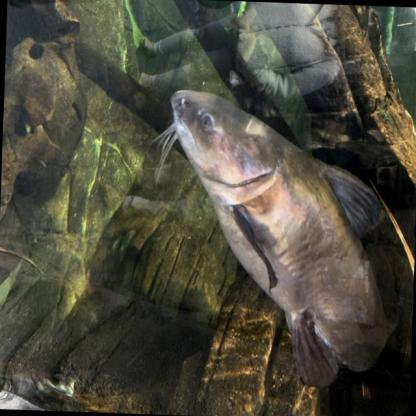fish: (160, 89, 407, 397)
